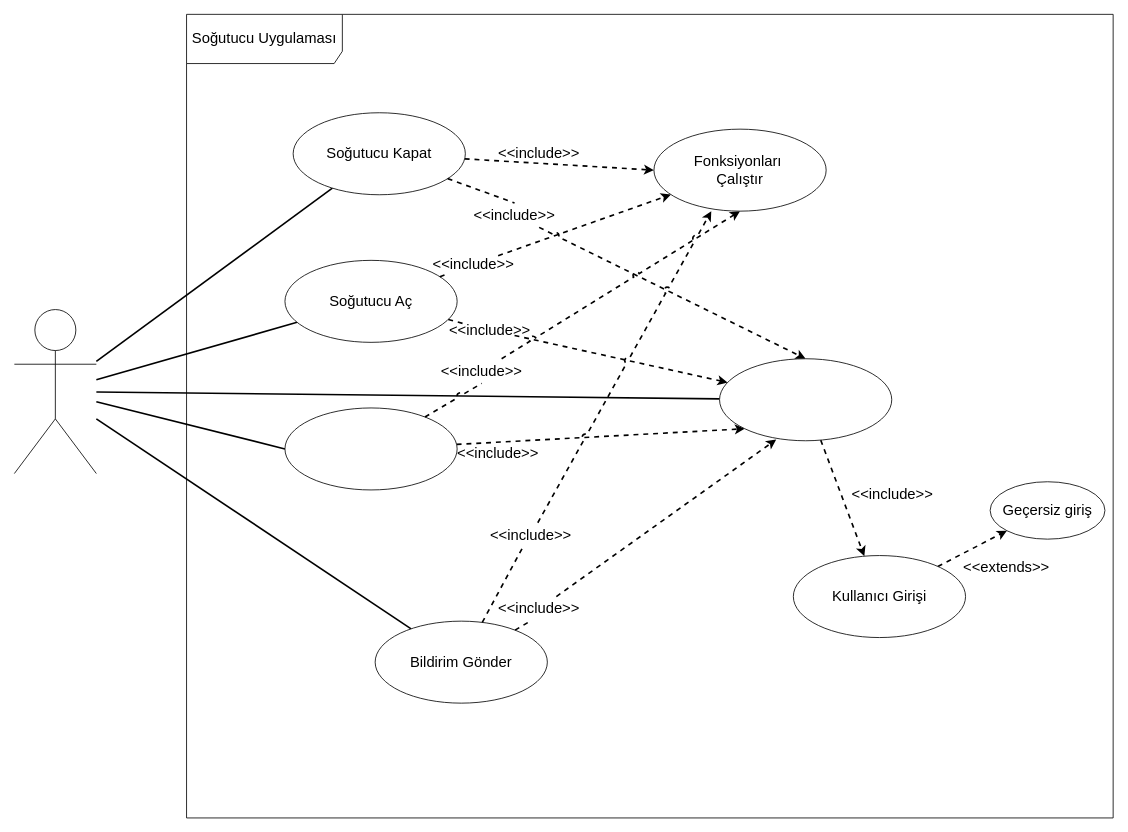
The diagram is 1128 pixels wide and 832 high, and some of its shapes have lost their labels. Each missing label, with the centre of its shape:
"Actor" belongs at [55,391].
"İşlem Menüsü" belongs at [805,399].
"Sıcaklık Göster" belongs at [370,448].
